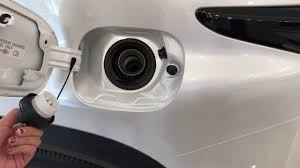open: (71, 27, 187, 117)
